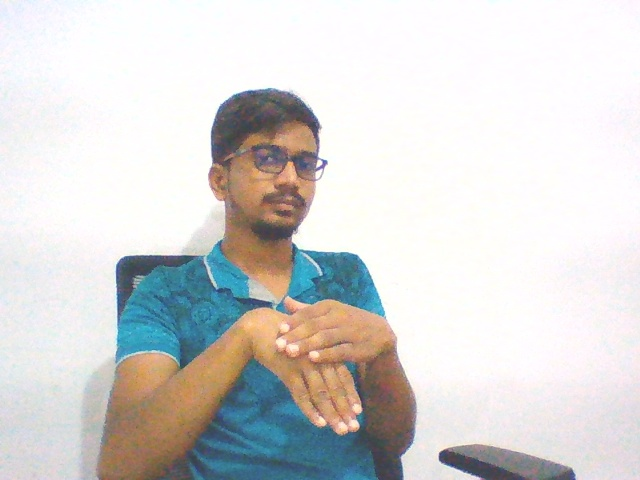pineapple: (234, 289, 399, 444)
